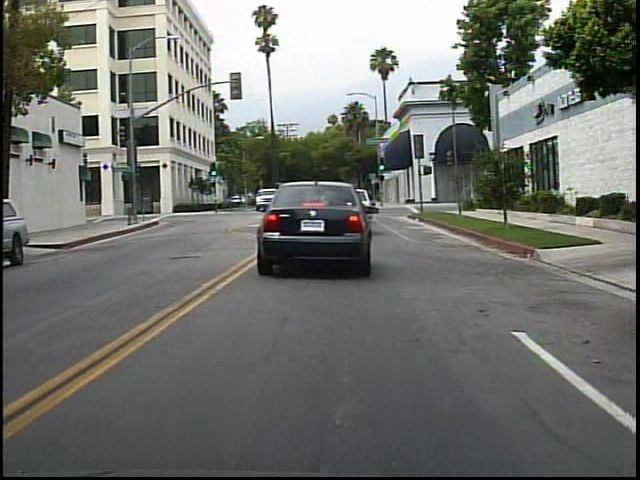person: (312, 181, 338, 221)
